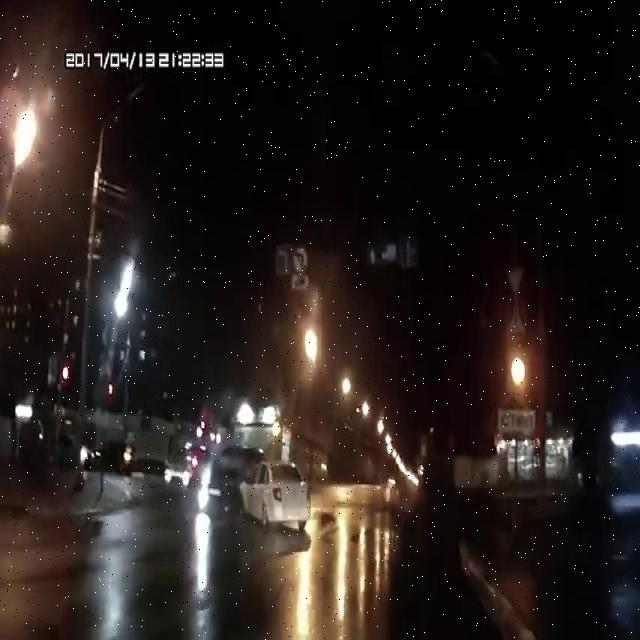moderate: (193, 440, 314, 533)
